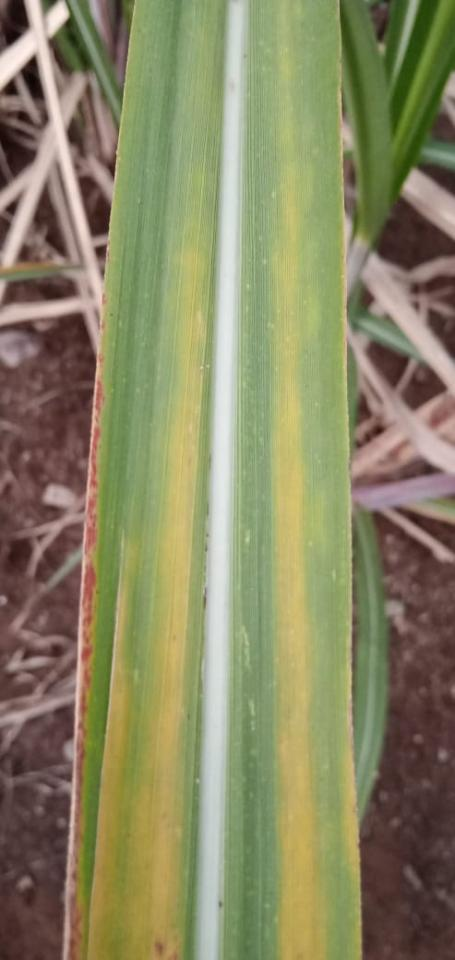Rust: (67, 371, 106, 959), (152, 934, 180, 959), (98, 352, 106, 367), (100, 311, 106, 330), (102, 293, 108, 305), (106, 250, 111, 264), (108, 239, 111, 246)
Yellow: (87, 146, 222, 959), (270, 0, 331, 959), (75, 207, 118, 906), (333, 601, 363, 959)
